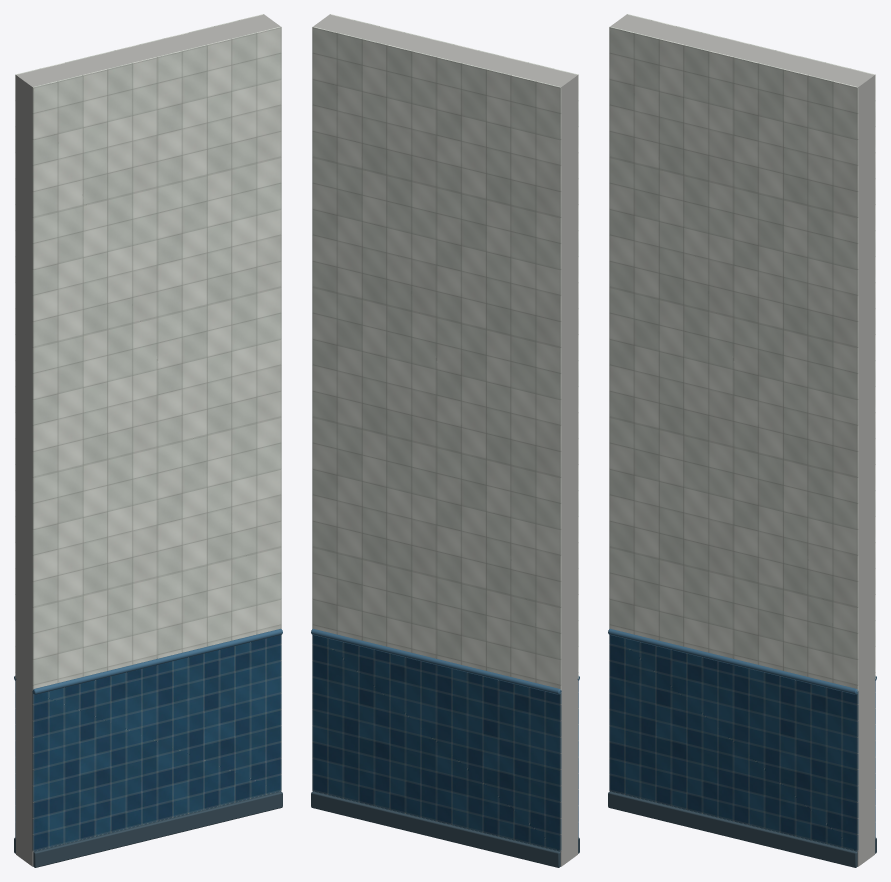
The model's file is tile_wall_module.mobile.glb.
3 views of the same model, side by side, from view 1: azimuth 30°, elevation 25°; view 2: azimuth 150°, elevation 25°; view 3: azimuth 330°, elevation 25° (orthographic).
Parts seen in each view (by area): view 1: TileWall; view 2: TileWall; view 3: TileWall.
Part boxes in pixels (left/top/right/bottom): TileWall: left=14, top=14, right=282, bottom=867; TileWall: left=311, top=14, right=579, bottom=867; TileWall: left=608, top=14, right=876, bottom=867.
Size of the model in its own units: 2 by 6 by 0.2981.
Materials: 5 (2 with a texture image).
